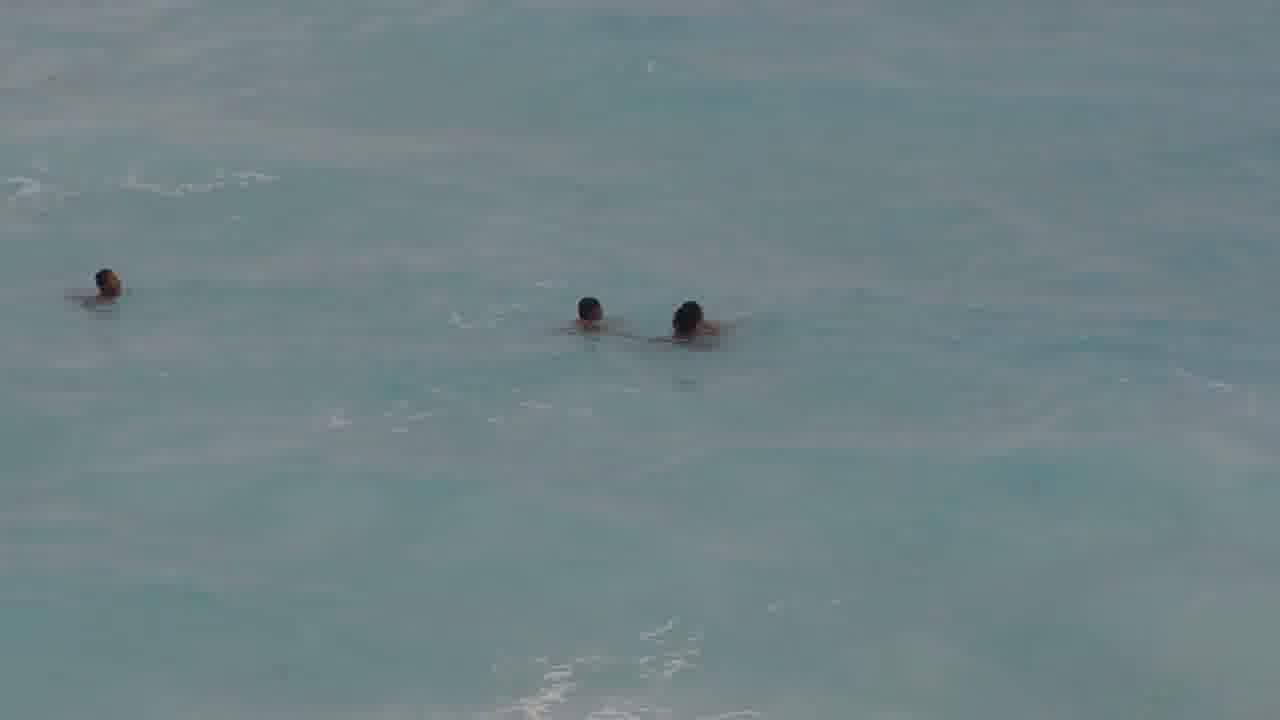swimmer: (86, 260, 133, 316), (665, 306, 717, 350), (568, 289, 615, 336)
